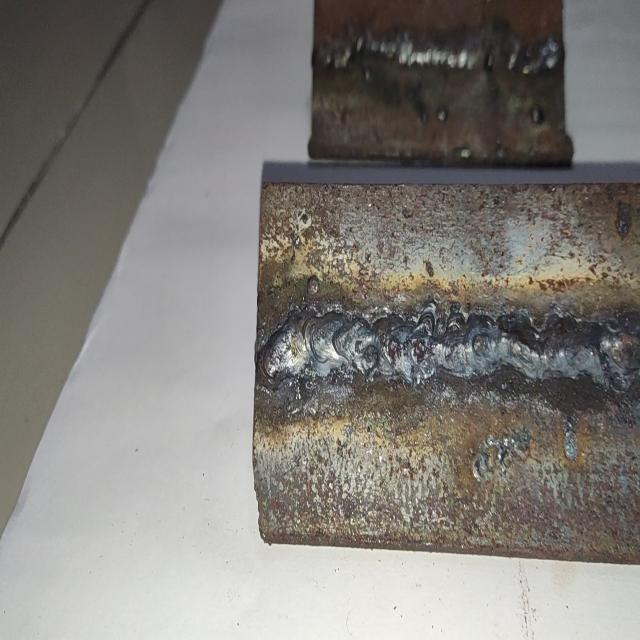Good Weld: (258, 311, 640, 393), (317, 38, 564, 72)
